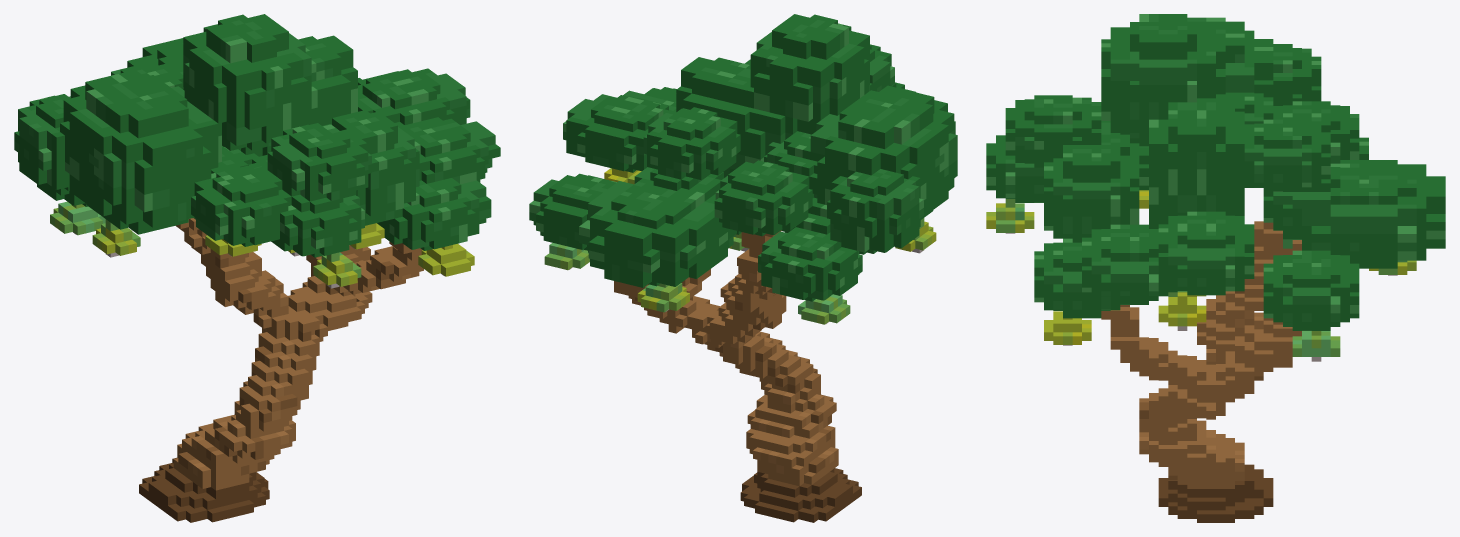
The model's file is Arbórea - Caju jovem.obj.
3 renders of one model, left to right at view 1: azimuth 30°, elevation 25°; view 2: azimuth 150°, elevation 25°; view 3: azimuth 270°, elevation 25°, orthographic. The views are drawn at different scales.
Size of the model in its own units: 4.7 by 5.5 by 4.8.
Materials: 1 (1 with a texture image).
